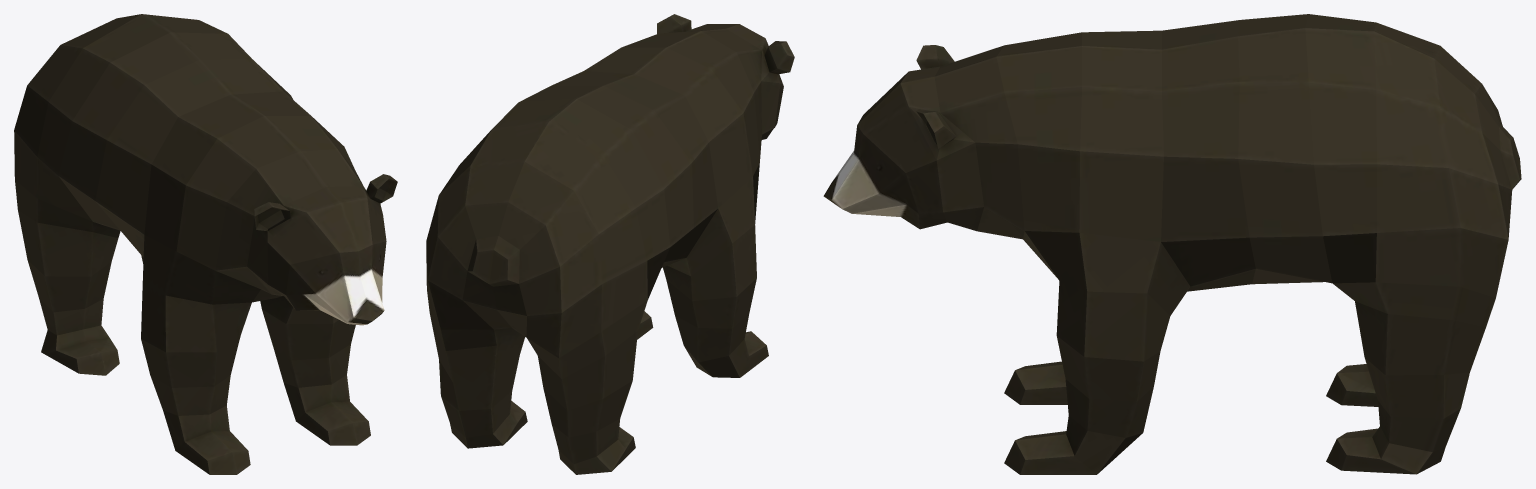
The model's file is black-bear-poly-by-google_56ym_pyVnel.glb.
The picture shows the model from 3 angles, left to right: view 1: azimuth 30°, elevation 25°; view 2: azimuth 150°, elevation 25°; view 3: azimuth 270°, elevation 25°; orthographic projection. The views are drawn at different scales.
Visible parts, largest first — view 1: BlackBear_mesh; view 2: BlackBear_mesh; view 3: BlackBear_mesh.
Part boxes in pixels (x1,y1,x2,y2): BlackBear_mesh: (14, 14, 397, 474); BlackBear_mesh: (426, 14, 794, 474); BlackBear_mesh: (823, 14, 1521, 474).
Size of the model in its own units: 6.68 by 10.22 by 16.13.
1 material, 1 textured.
